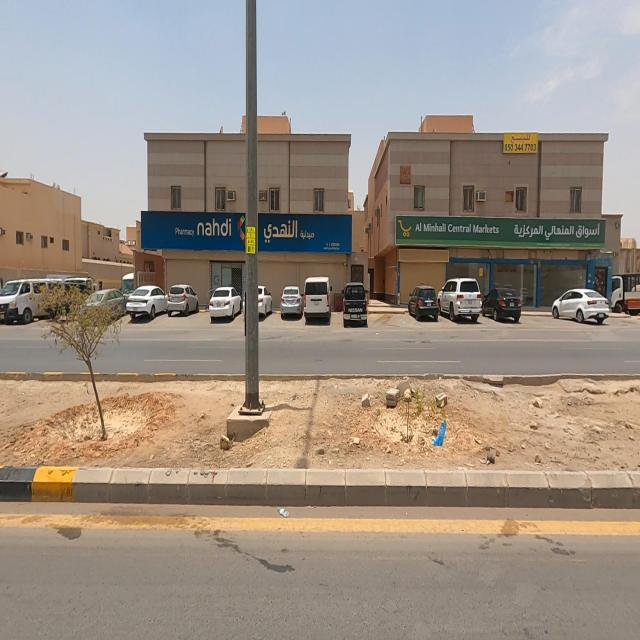debris: (402, 384, 484, 476)
